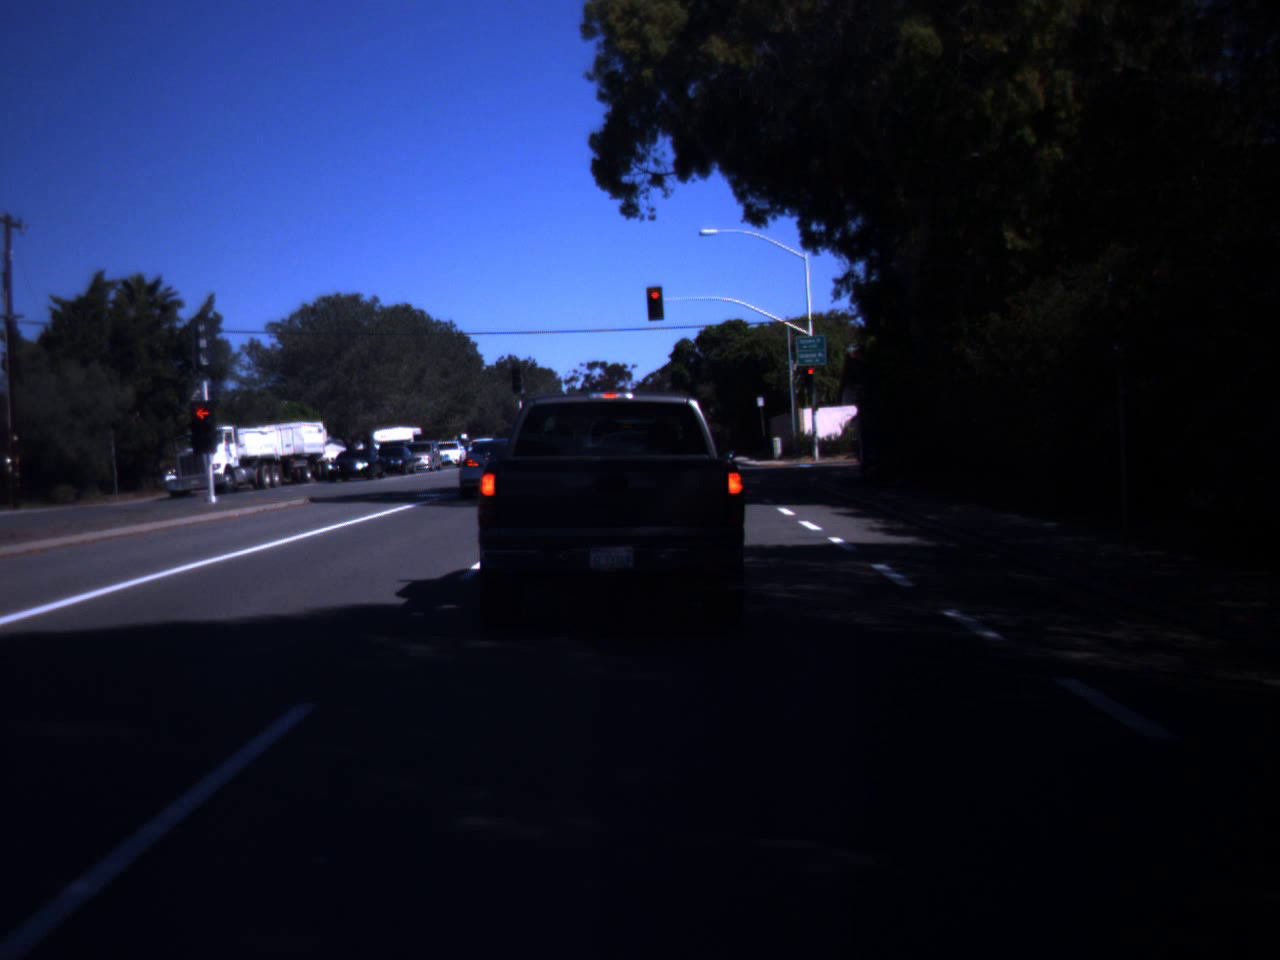stop: (186, 406, 219, 442), (646, 289, 664, 316), (804, 368, 816, 386)
